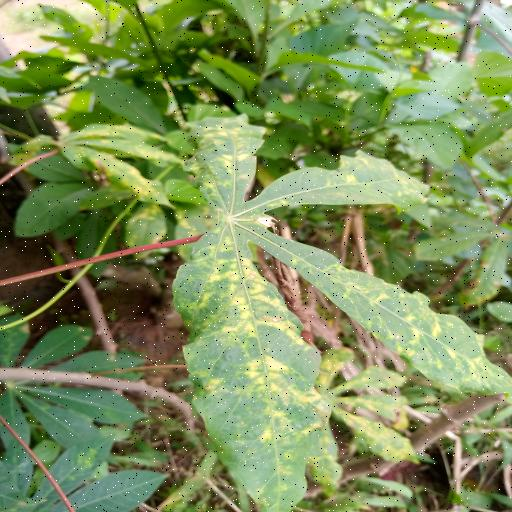Cassava_Mosaic: (165, 112, 512, 502)
